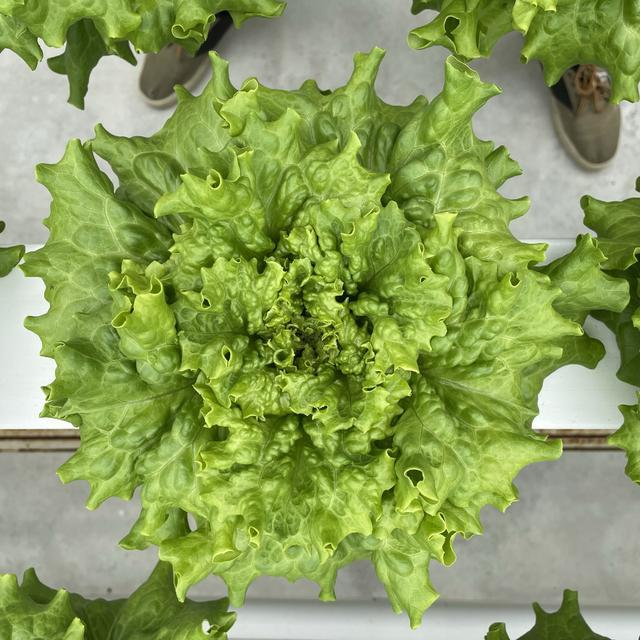Lettuce: (25, 52, 612, 610), (408, 0, 640, 95), (0, 554, 246, 640), (0, 0, 295, 58), (473, 583, 620, 640)
